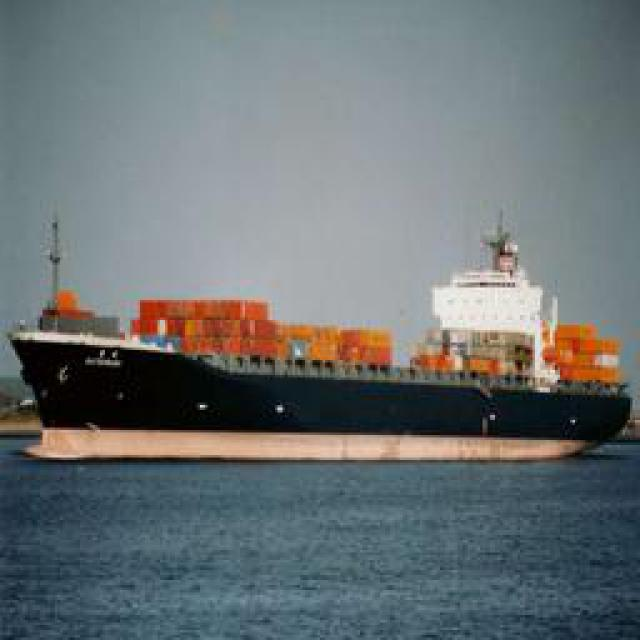Ship: (5, 196, 634, 467)
